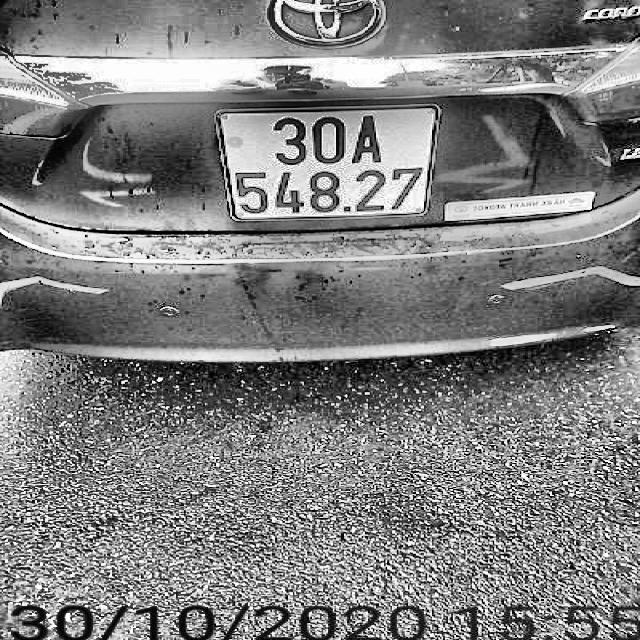plate: (201, 98, 450, 230)
